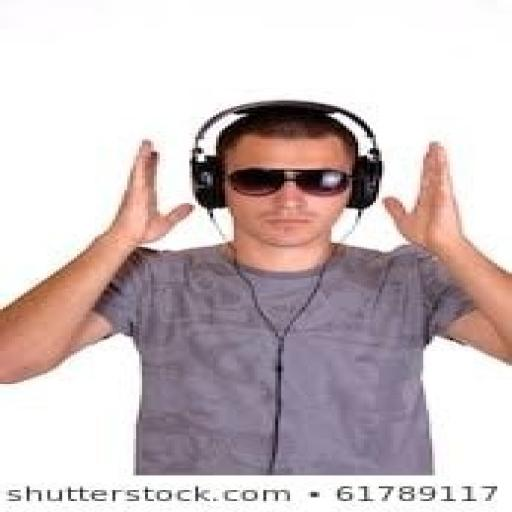listening_to_music: (0, 100, 509, 476)
